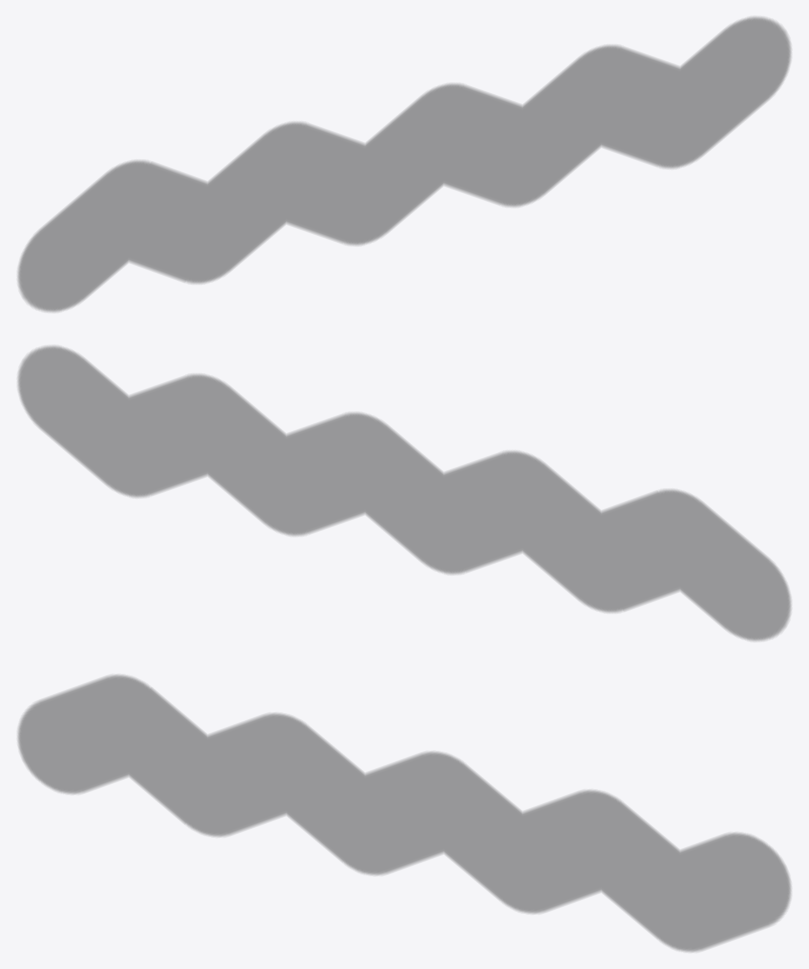
3 renders of one model, top to bottom at view 1: azimuth 30°, elevation 25°; view 2: azimuth 150°, elevation 25°; view 3: azimuth 330°, elevation 25°, orthographic.
Visible parts, largest first — view 1: Joint_0_Object_0; view 2: Joint_0_Object_0; view 3: Joint_0_Object_0.
Boxes of the visible parts, bbox=[...] form: Joint_0_Object_0: bbox=[18, 17, 790, 311]; Joint_0_Object_0: bbox=[18, 346, 790, 640]; Joint_0_Object_0: bbox=[18, 675, 790, 951].
Bounding box in the file's own units: 282 × 51.13 × 0.
1 material, 1 textured.
